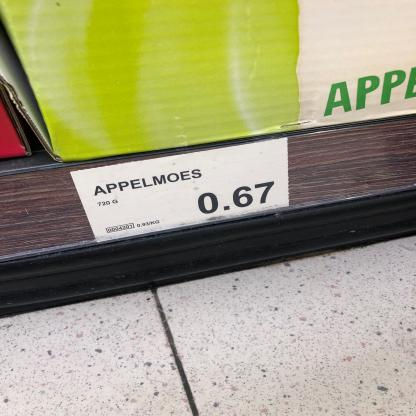prtg: (71, 139, 290, 242)
